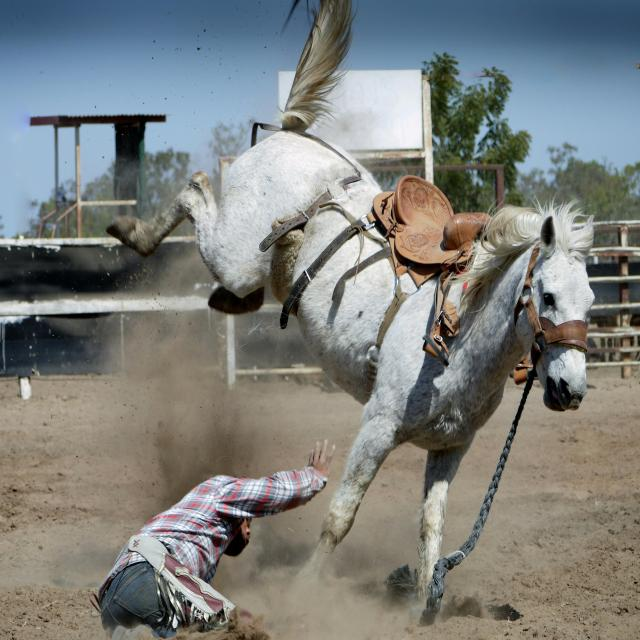lie: (81, 440, 346, 640)
